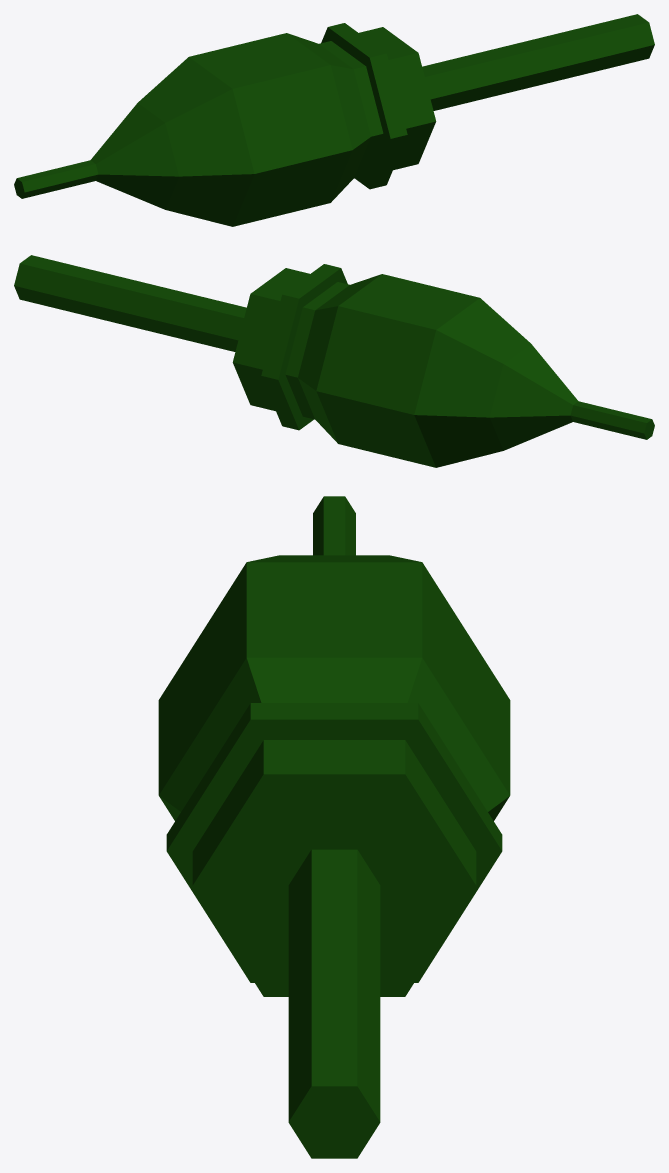
File: rcket.fbx
3 renders of one model, top to bottom at view 1: azimuth 30°, elevation 25°; view 2: azimuth 150°, elevation 25°; view 3: azimuth 270°, elevation 25°, orthographic. The views are drawn at different scales.
Parts seen in each view (by area): view 1: 실린더.001; view 2: 실린더.001; view 3: 실린더.001.
Part boxes in pixels (left/top/right/bottom): 실린더.001: left=14, top=14, right=654, bottom=226; 실린더.001: left=14, top=255, right=654, bottom=467; 실린더.001: left=158, top=496, right=510, bottom=1158.
Bounding box in the file's own units: 850 × 180 × 207.
